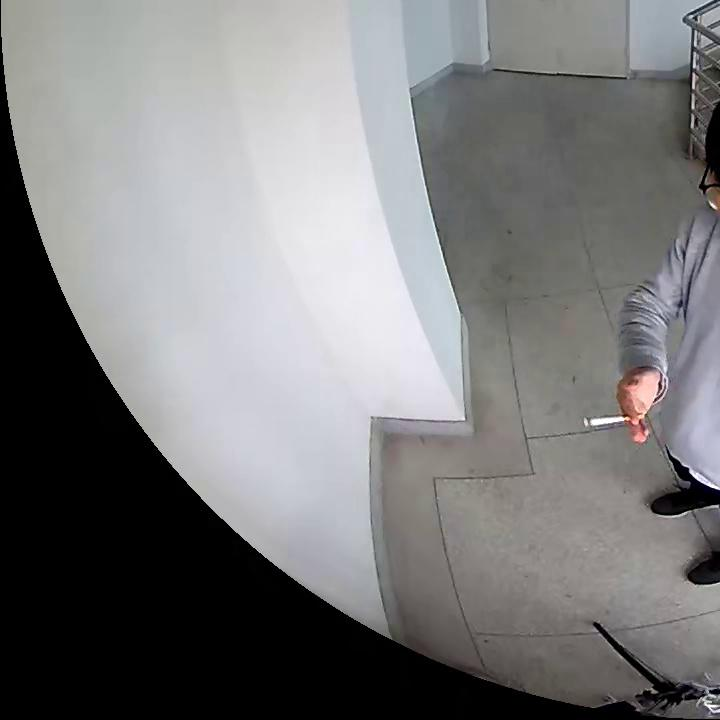handsmoke: (580, 375, 658, 445)
